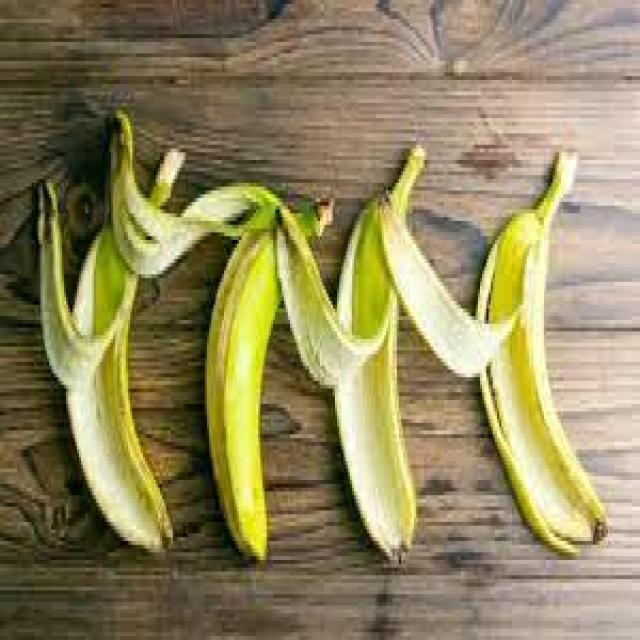Cascara de banano: (38, 149, 191, 554), (475, 145, 615, 559), (206, 192, 335, 564), (332, 155, 419, 554)
